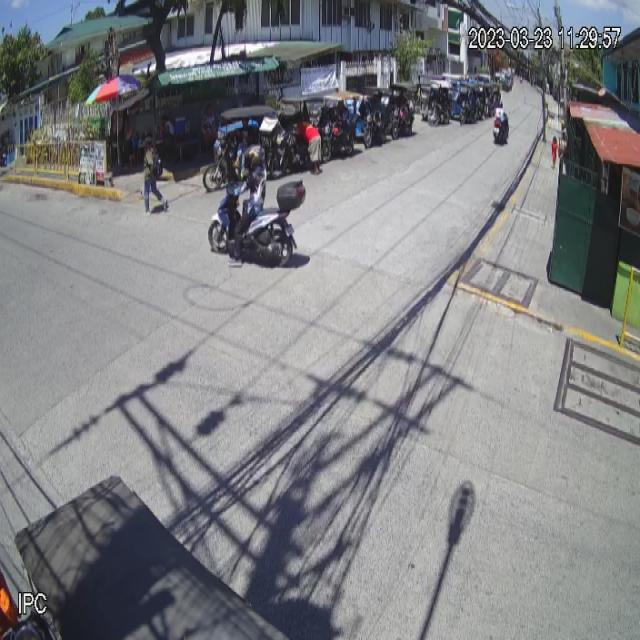Motorcycle: (207, 175, 307, 273)
